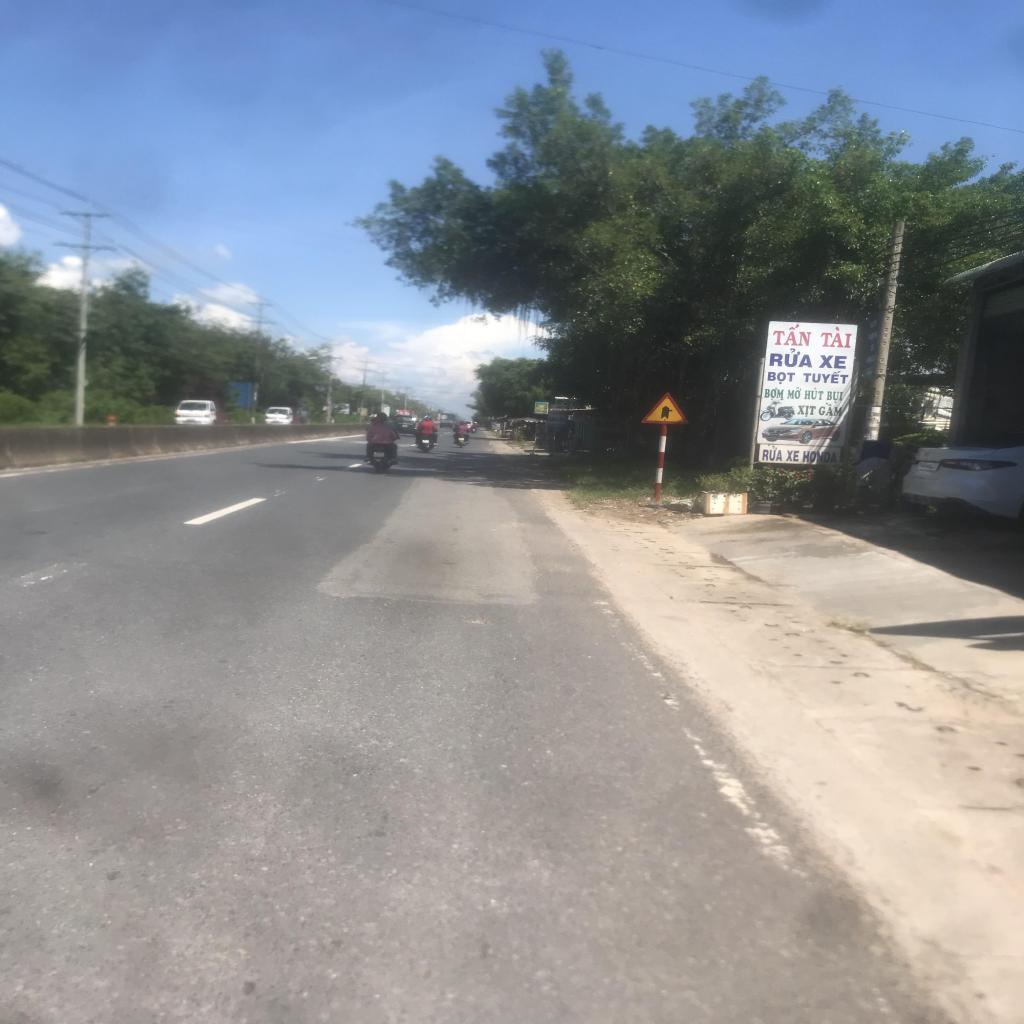giao_nhau_voi_duong_khong_uu_tien: (642, 392, 688, 426)
